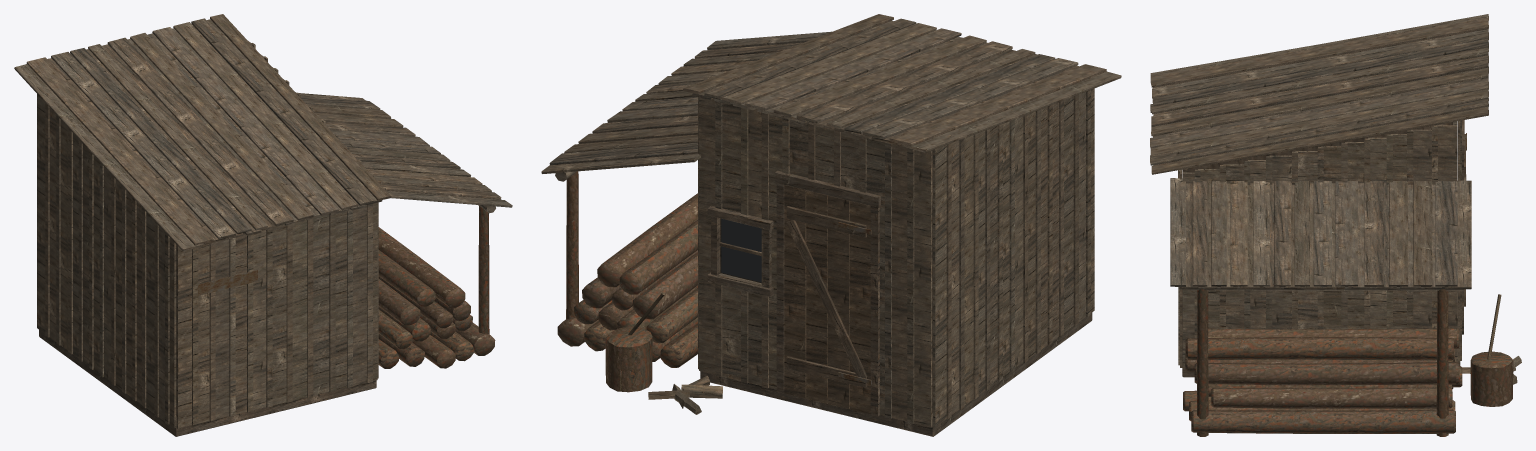
The model's file is b_lumber.glb.
3 views of the same model, side by side, from view 1: azimuth 30°, elevation 25°; view 2: azimuth 150°, elevation 25°; view 3: azimuth 270°, elevation 25° (orthographic). The views are drawn at different scales.
Visible parts, largest first — view 1: b_lumber; view 2: b_lumber; view 3: b_lumber.
Part boxes in pixels (x1,y1,x2,y2): b_lumber: (14, 14, 512, 436); b_lumber: (541, 14, 1121, 436); b_lumber: (1150, 14, 1521, 436).
Size of the model in its own units: 3.85 by 2.85 by 3.65.
4 materials, 3 textured.
